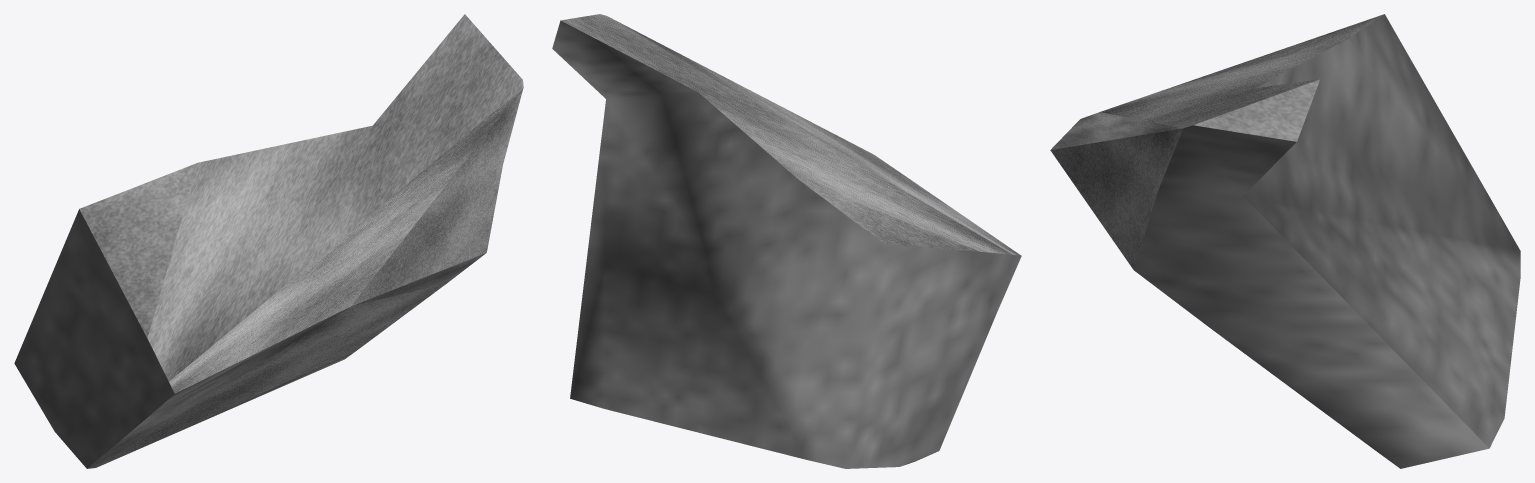
File: leg_1_cell_016.fbx
3 renders of one model, left to right at view 1: azimuth 30°, elevation 25°; view 2: azimuth 150°, elevation 25°; view 3: azimuth 270°, elevation 25°, orthographic. The views are drawn at different scales.
Visible parts, largest first — view 1: leg_1_cell.016; view 2: leg_1_cell.016; view 3: leg_1_cell.016.
Boxes of the visible parts, bbox=[...] form: leg_1_cell.016: bbox=[14, 14, 523, 468]; leg_1_cell.016: bbox=[552, 14, 1021, 468]; leg_1_cell.016: bbox=[1050, 14, 1520, 468].
Size of the model in its own units: 29.91 by 25.96 by 23.55.
